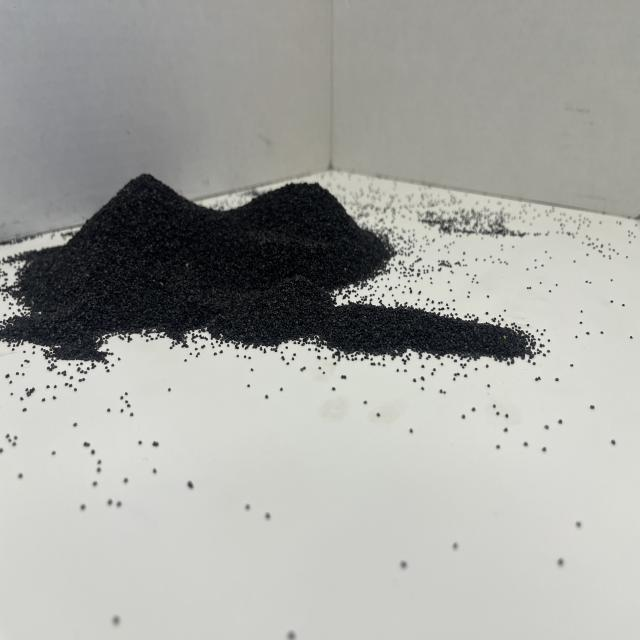Poppy Seeds: (21, 140, 427, 369)
